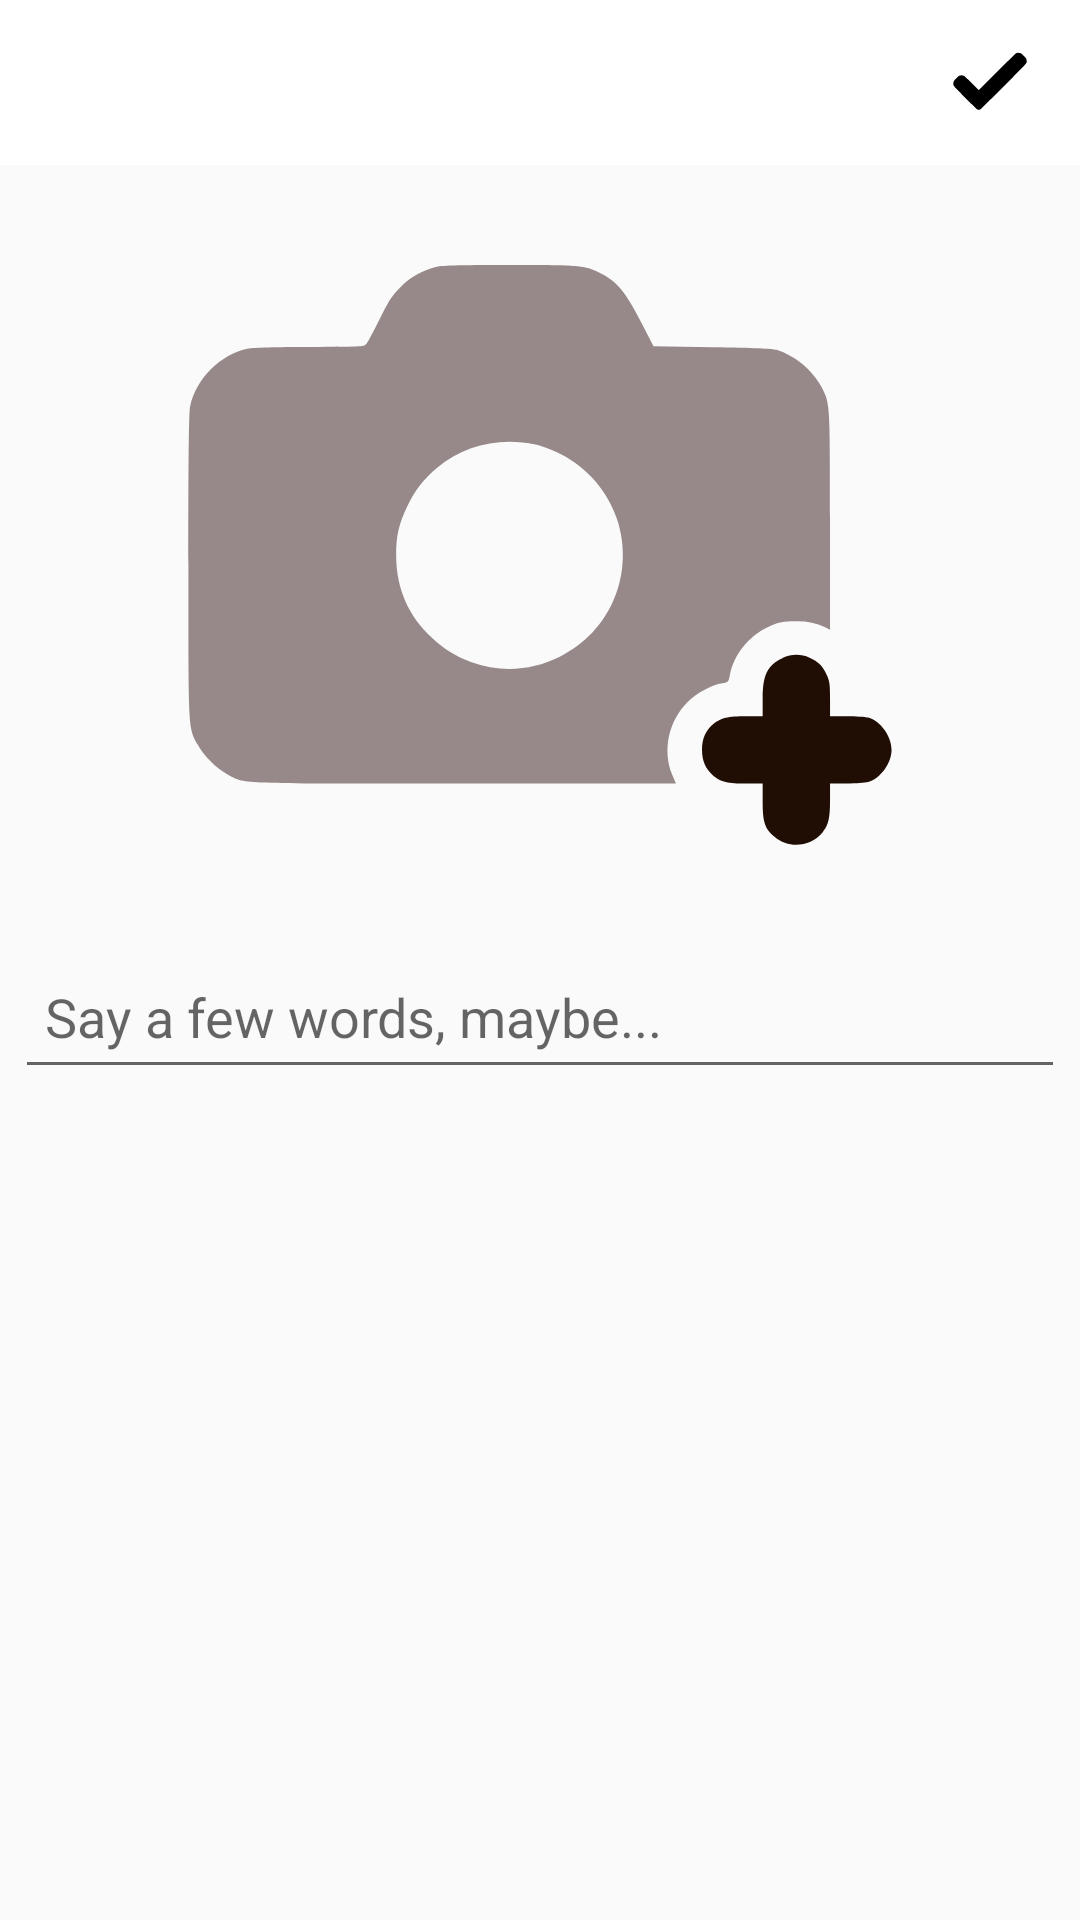

Icons on this 1080x1920 Android screen, each with its box as box=[x1, y1, x2, y2]:
save edited: box=[953, 52, 1027, 110]
